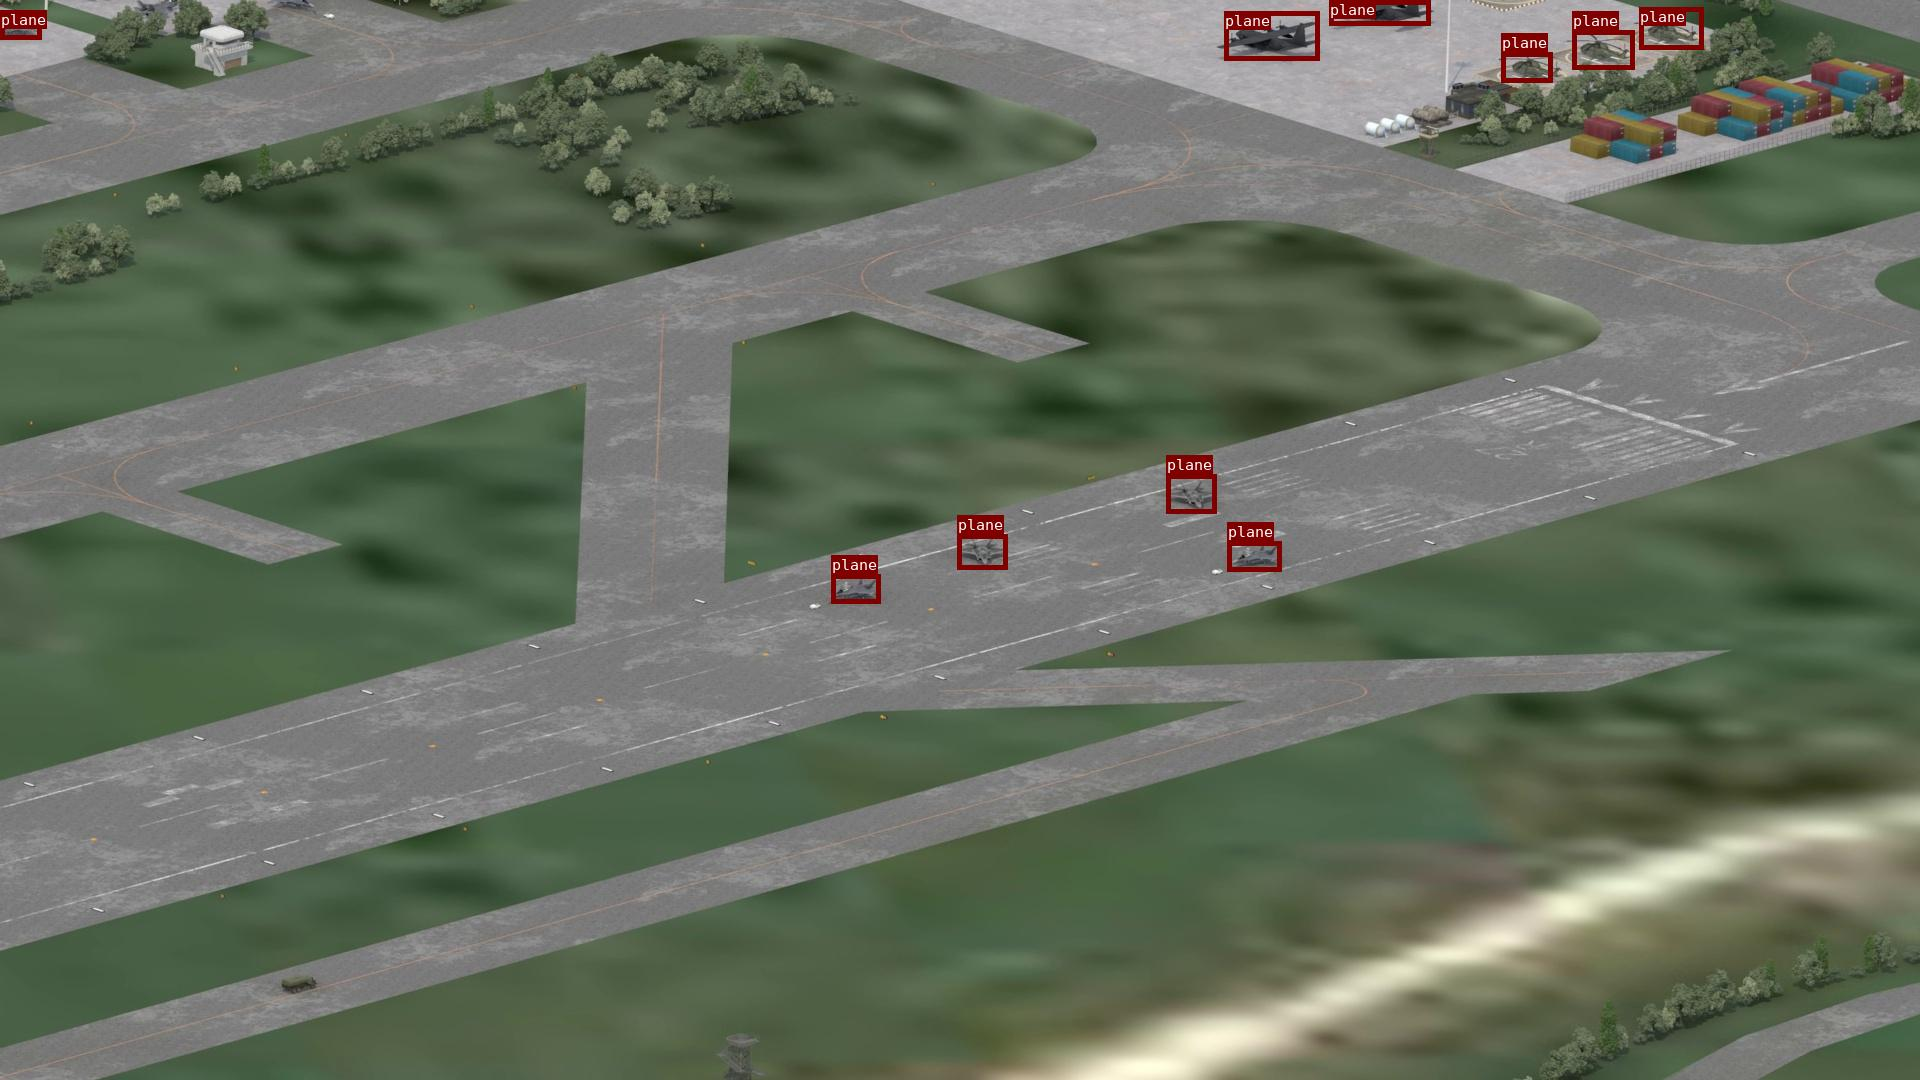plane: (1224, 11, 1319, 61), (1639, 7, 1702, 49), (1329, 0, 1429, 25), (1572, 30, 1634, 69), (1166, 473, 1216, 513), (957, 534, 1007, 568), (1226, 541, 1280, 571), (1501, 51, 1552, 82), (831, 574, 880, 603), (0, 11, 41, 40)
